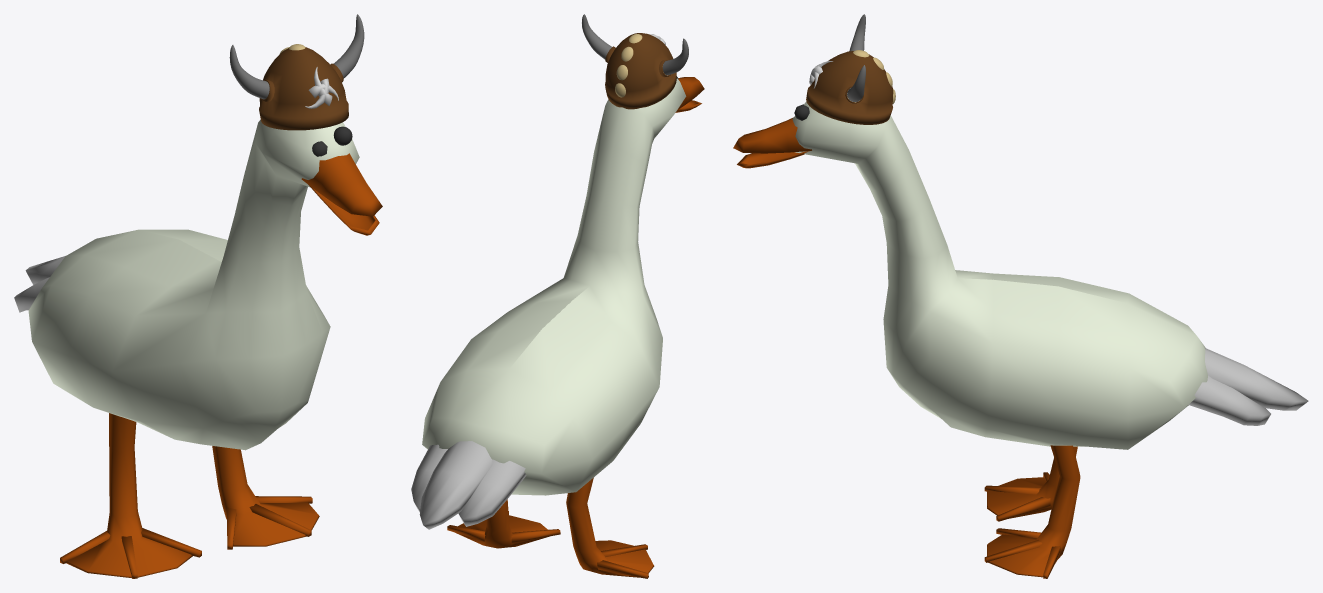
Rendered from duck-viking-v2.fbx.
3 renders of one model, left to right at view 1: azimuth 30°, elevation 25°; view 2: azimuth 150°, elevation 25°; view 3: azimuth 270°, elevation 25°, orthographic. The views are drawn at different scales.
Visible parts, largest first — view 1: viky_helmet.001_Sphere.001; view 2: viky_helmet.001_Sphere.001; view 3: viky_helmet.001_Sphere.001.
Part boxes in pixels (left/top/right/bottom): viky_helmet.001_Sphere.001: left=14, top=14, right=382, bottom=578; viky_helmet.001_Sphere.001: left=411, top=14, right=704, bottom=578; viky_helmet.001_Sphere.001: left=733, top=14, right=1308, bottom=578.
Bounding box in the file's own units: 177 × 395 × 420.
